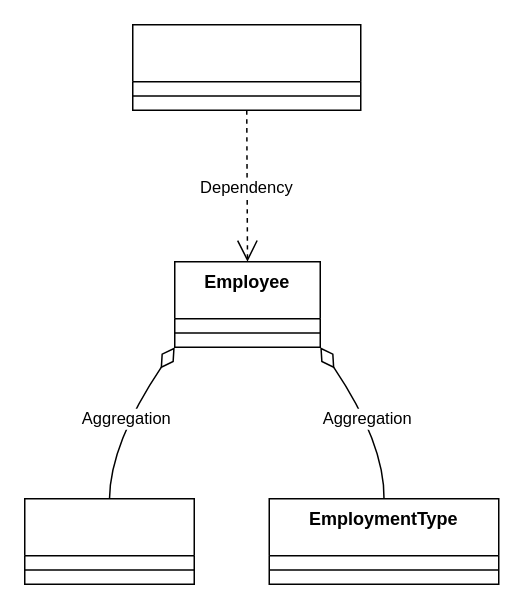
This 524x609 diagram has some shape labels left out. Each missing label, with the box of its shape:
Department: (23, 497, 194, 584)
EmployeeService: (131, 23, 361, 110)
